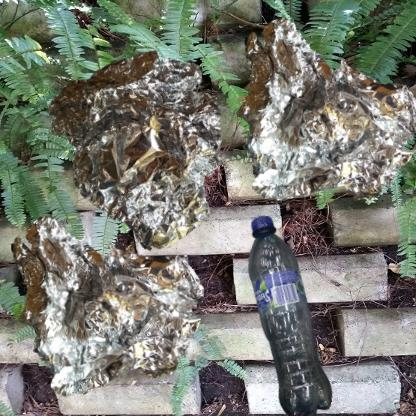aluminio: (10, 10, 296, 293), (213, 10, 416, 235), (10, 213, 206, 398)
botella: (213, 213, 380, 416)
